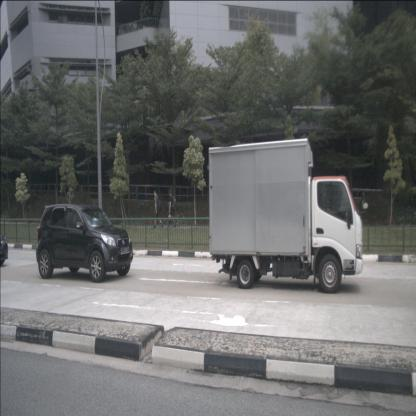human-pedestrian-adult: (166, 189, 178, 229), (152, 190, 164, 228)
vehicle-car: (36, 204, 133, 283)
vehicle-truck: (207, 138, 363, 294)
